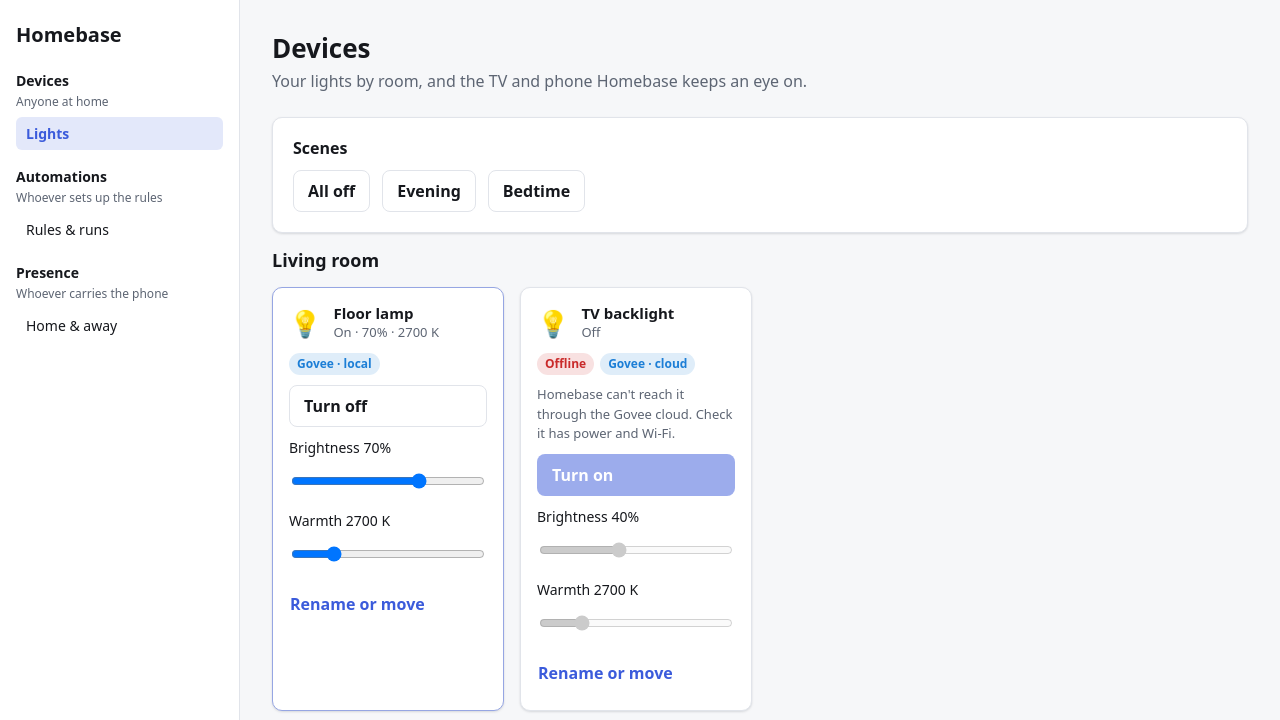
Scenario: DevicesPage › activates a scene and says which steps did not apply
Click the button "Bedtime" at (536,190), box 488,170 -> 585,212
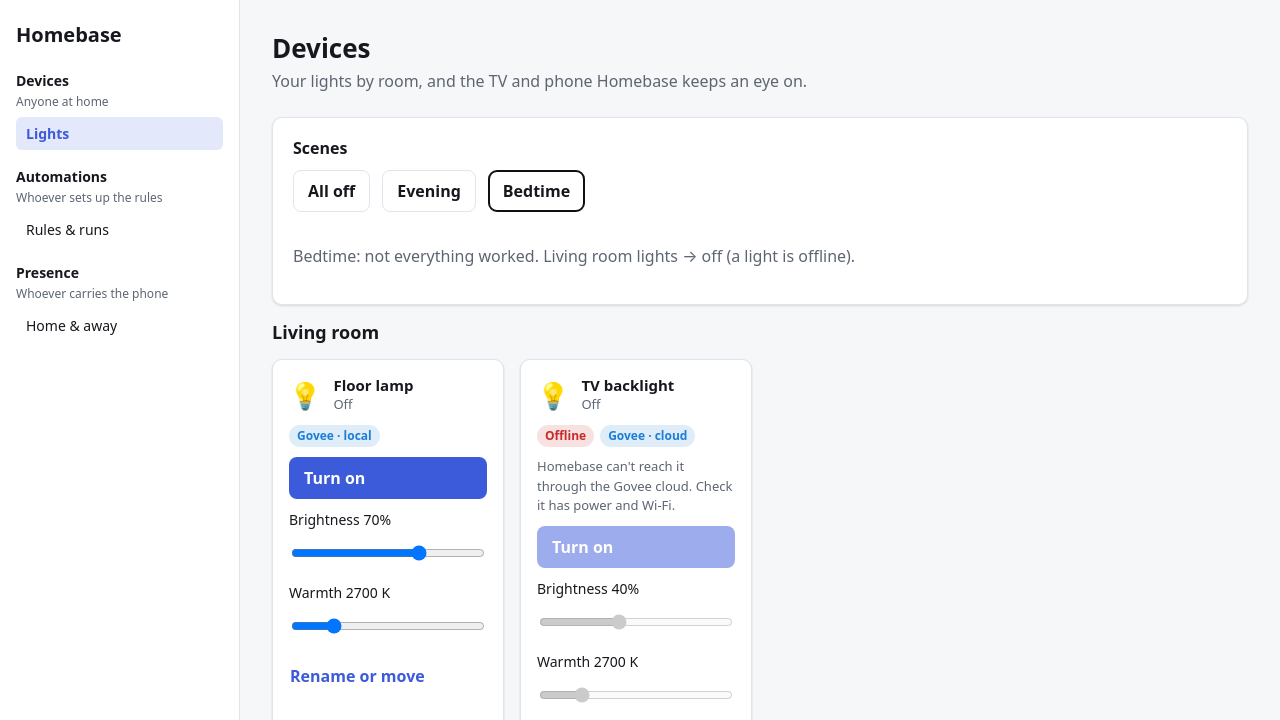
Check: the text "Bedtime: not everything worked. Living room lights → off (a light is offline)." is shown, box 293,244 -> 855,266
Check: the text "Off" below "Floor lamp" is shown, box 333,395 -> 352,413
